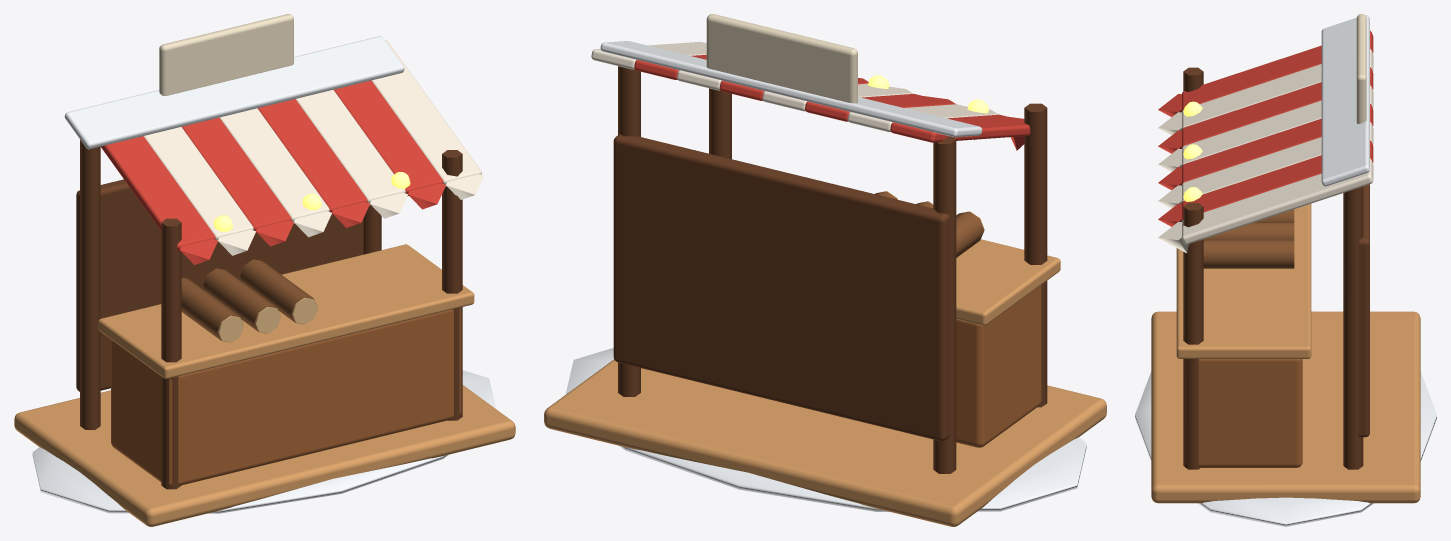
File: shop_wood.glb
The picture shows the model from 3 angles, left to right: view 1: azimuth 30°, elevation 25°; view 2: azimuth 150°, elevation 25°; view 3: azimuth 270°, elevation 25°; orthographic projection. The views are drawn at different scales.
Parts seen in each view (by area): view 1: n2535, n2532, n2536, n2541, n2559, n2560, n2538, n2533, n2543, n2547, n2551, n2537 (+18 smaller); view 2: n2541, n2532, n2535, n2560, n2533, n2536, n2559, n2537, n2538, n2540, n2543, n2539 (+5 smaller); view 3: n2532, n2536, n2535, n2559, n2533, n2540, n2557, n2539, n2541, n2547, n2551, n2565 (+9 smaller).
Part boxes in pixels (box(x1,y1,x2,y2)): n2535: box(111, 308, 461, 485); n2532: box(14, 385, 515, 526); n2536: box(98, 244, 474, 378); n2541: box(76, 179, 363, 391); n2559: box(64, 36, 404, 149); n2560: box(159, 14, 293, 95); n2538: box(80, 139, 100, 429); n2533: box(32, 370, 496, 513); n2543: box(101, 136, 215, 251); n2547: box(182, 117, 291, 233); n2551: box(258, 99, 367, 214); n2537: box(161, 218, 181, 489); n2541: box(613, 134, 950, 441); n2532: box(544, 359, 1106, 526); n2535: box(956, 285, 1041, 447); n2560: box(706, 14, 857, 103); n2533: box(565, 348, 1086, 511); n2536: box(956, 239, 1060, 325); n2559: box(600, 41, 982, 137); n2537: box(1024, 103, 1047, 407); n2538: box(933, 136, 956, 473); n2540: box(618, 66, 640, 396); n2543: box(890, 114, 1030, 142); n2539: box(709, 88, 731, 159); n2532: box(1151, 311, 1420, 503); n2536: box(1176, 204, 1311, 358); n2535: box(1185, 359, 1302, 467); n2559: box(1321, 15, 1369, 186); n2533: box(1135, 311, 1436, 526); n2540: box(1343, 186, 1363, 469); n2557: box(1182, 158, 1373, 244); n2539: box(1183, 203, 1203, 469); n2541: box(1358, 184, 1369, 437); n2547: box(1182, 67, 1373, 147); n2551: box(1182, 104, 1373, 184); n2565: box(1203, 240, 1294, 268).
Bounding box in the file's own units: 3.03 × 2.53 × 1.79.
